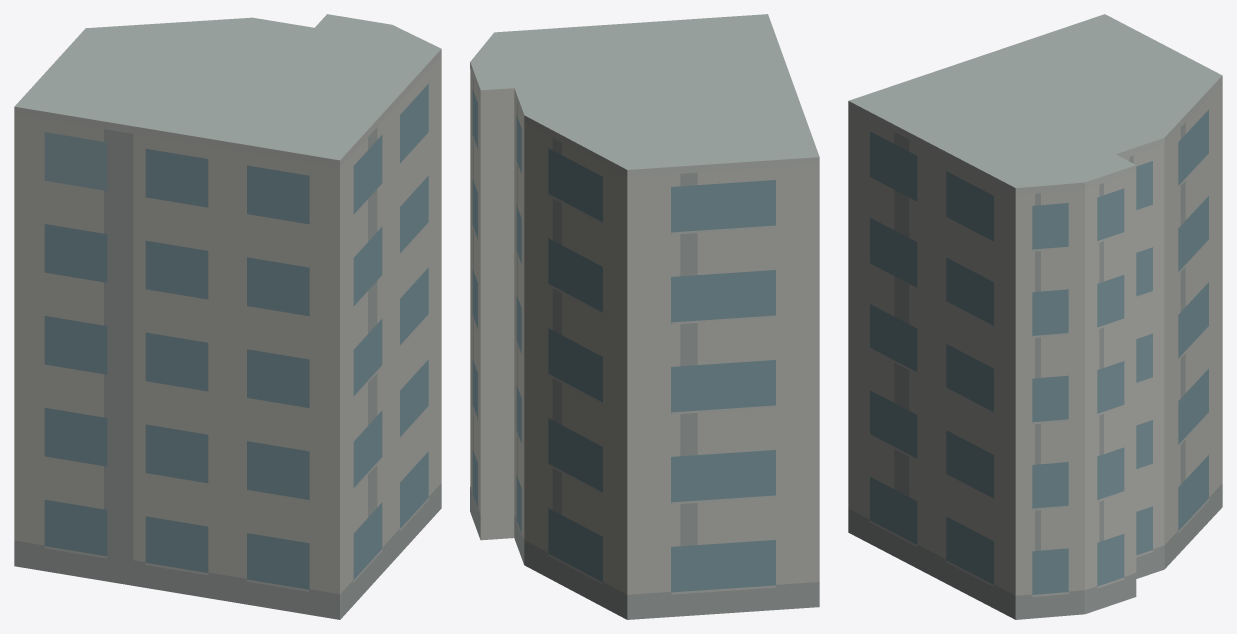
The model's file is residential-dc7228ee-29af-484b-971a-3da319f7006e.glb.
The picture shows the model from 3 angles, left to right: view 1: azimuth 30°, elevation 25°; view 2: azimuth 150°, elevation 25°; view 3: azimuth 270°, elevation 25°; orthographic projection. The views are drawn at different scales.
Parts seen in each view (by area): view 1: residential-dc7228ee-29af-484b-971a-3da319f7006e.tmp; view 2: residential-dc7228ee-29af-484b-971a-3da319f7006e.tmp; view 3: residential-dc7228ee-29af-484b-971a-3da319f7006e.tmp.
Part boxes in pixels (x1=…): residential-dc7228ee-29af-484b-971a-3da319f7006e.tmp: x1=14, y1=14, x2=441, y2=619; residential-dc7228ee-29af-484b-971a-3da319f7006e.tmp: x1=470, y1=14, x2=819, y2=619; residential-dc7228ee-29af-484b-971a-3da319f7006e.tmp: x1=848, y1=14, x2=1222, y2=619.
Bounding box in the file's own units: 12.73 × 14.7 × 11.55.
